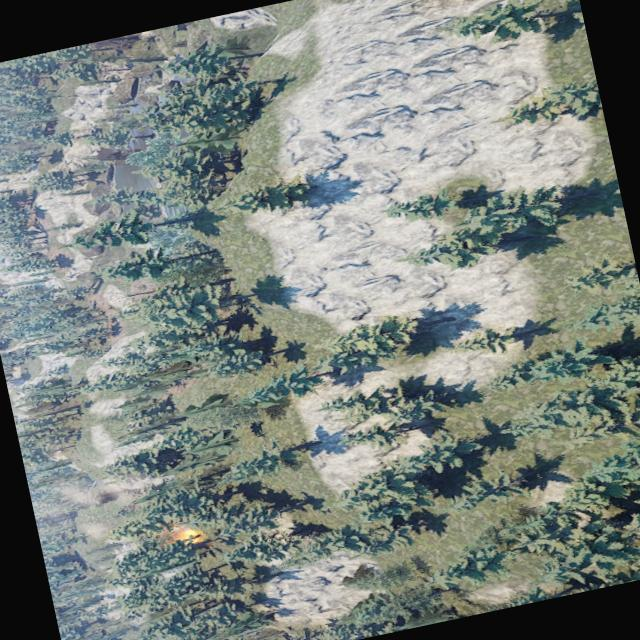fire: (166, 520, 205, 545)
